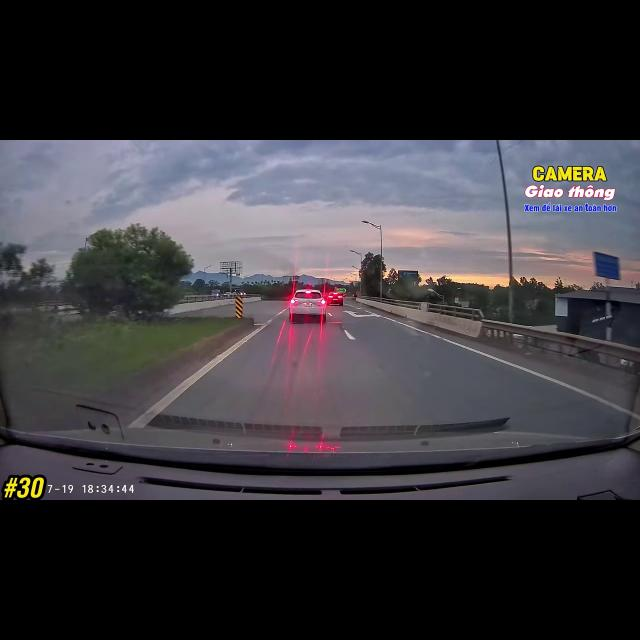car: (289, 289, 326, 322), (326, 292, 343, 305)
